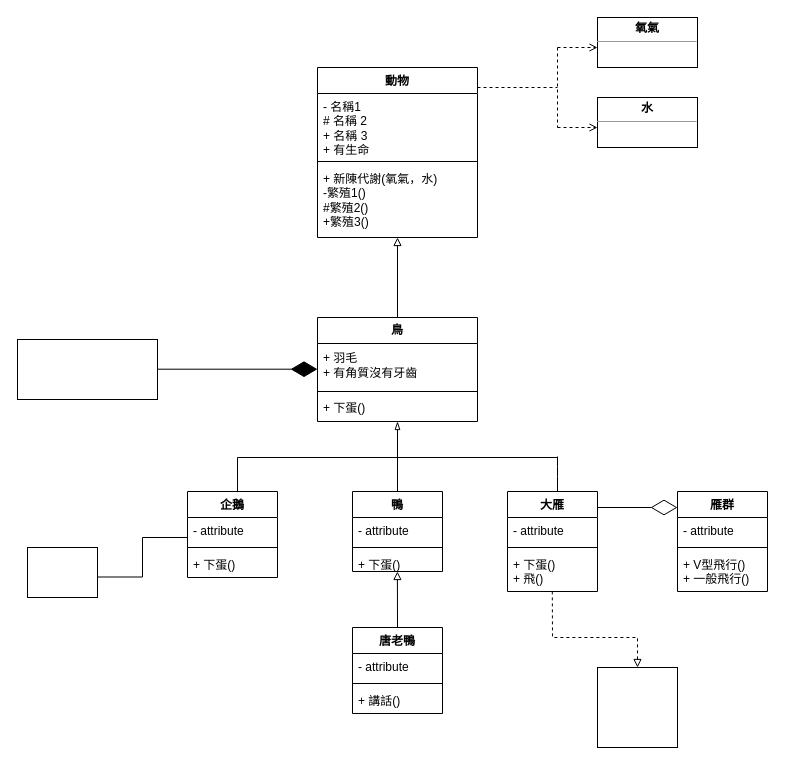
Some shapes in this 785 by 765 pixel diagram are drawn without their labels. The centre of each missing label's shape, as x and y in pixels:
<<Interface>> 飛翔 + 飛(): the point at 637,707
氣候: the point at 62,572
翅膀: the point at 87,369
